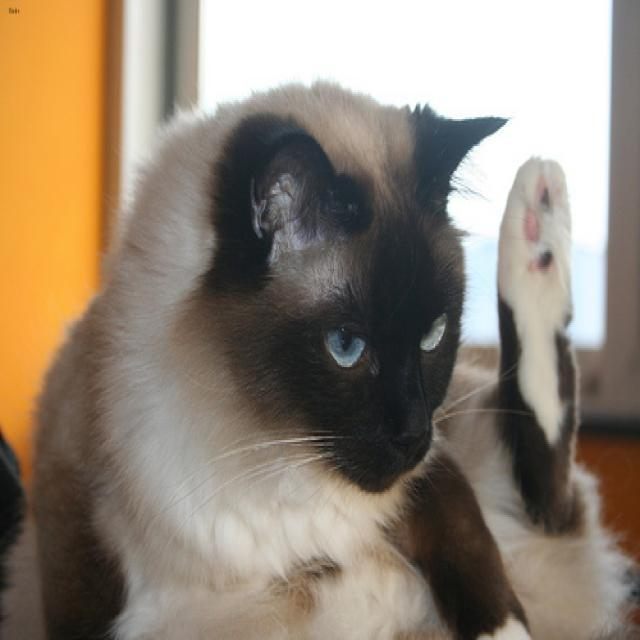Birman: (188, 76, 511, 502)
